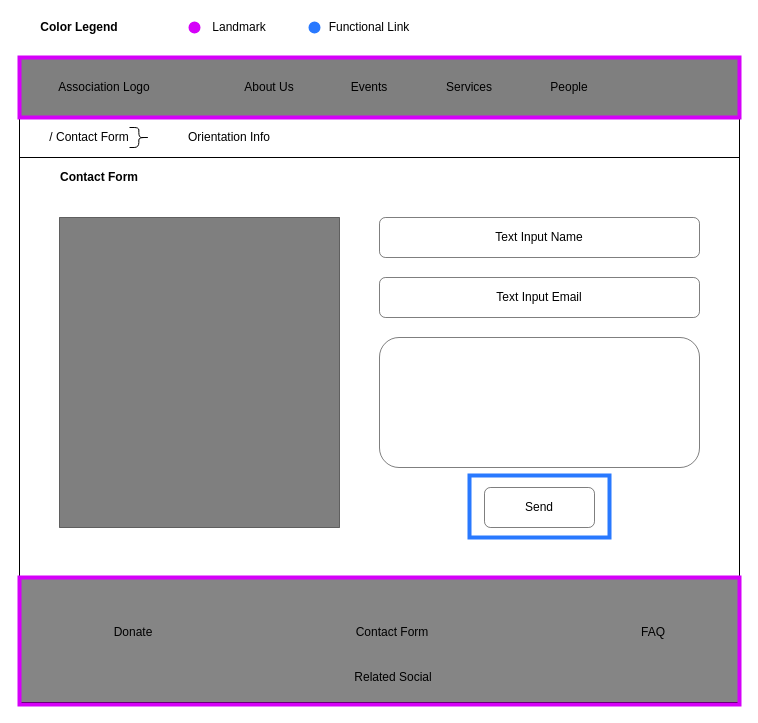
This 758x723 diagram has some shape labels left out. Here are the shapes that lost their labels. From the top down, the centre of each, then its label:
(199,372): img
(539,402): Text Input Message
